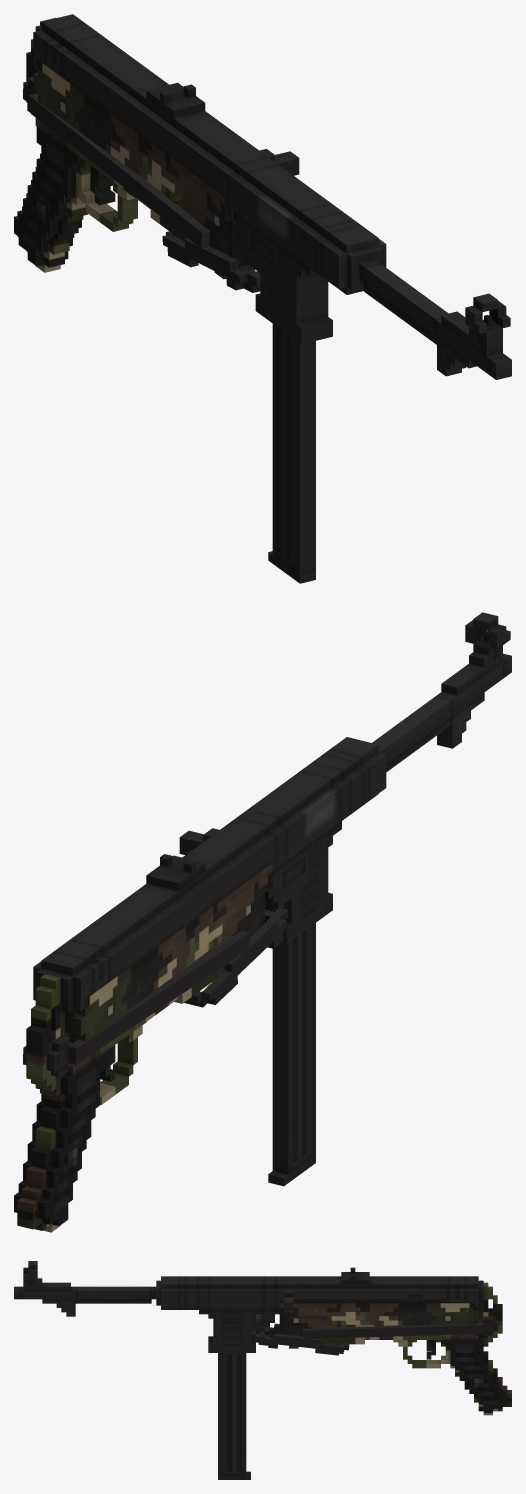
Rendered from RD_MP40_MILITARY1945.glb.
The picture shows the model from 3 angles, top to bottom: view 1: azimuth 30°, elevation 25°; view 2: azimuth 150°, elevation 25°; view 3: azimuth 270°, elevation 25°; orthographic projection. The views are drawn at different scales.
Parts seen in each view (by area): view 1: MP40, MP40_CLIP, MP40_BODY_P2, MP40_BODY_P3; view 2: MP40, MP40_CLIP, MP40_BODY_P2, MP40_BODY_P3; view 3: MP40, MP40_CLIP, MP40_BODY_P2, MP40_BODY_P3.
Boxes of the visible parts, box(x1,y1,x2,y2) form: MP40: box(14, 14, 511, 379); MP40_CLIP: box(268, 324, 315, 583); MP40_BODY_P2: box(23, 77, 209, 247); MP40_BODY_P3: box(162, 231, 260, 292); MP40: box(14, 612, 511, 1232); MP40_CLIP: box(268, 923, 315, 1186); MP40_BODY_P2: box(23, 930, 249, 1077); MP40_BODY_P3: box(184, 905, 288, 1007); MP40: box(14, 1261, 511, 1415); MP40_CLIP: box(218, 1353, 250, 1479); MP40_BODY_P2: box(303, 1316, 497, 1339); MP40_BODY_P3: box(251, 1323, 349, 1355).
Bounding box in the file's own units: 0.0984 × 0.4921 × 1.03.
1 material, 1 textured.
